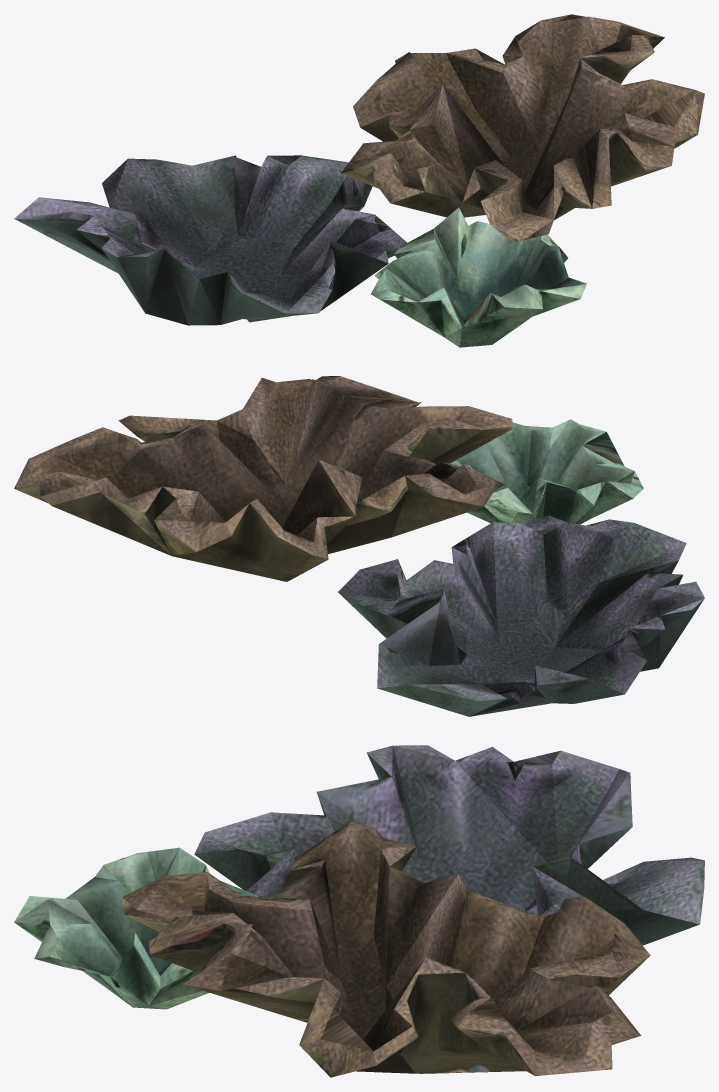
3 views of the same model, one above another, from view 1: azimuth 30°, elevation 25°; view 2: azimuth 150°, elevation 25°; view 3: azimuth 270°, elevation 25° (orthographic). The views are drawn at different scales.
Visible parts, largest first — view 1: sc06; view 2: sc06; view 3: sc06.
Boxes of the visible parts, x1,y1,x2,y2 form: sc06: (14,14,704,347); sc06: (14,376,704,716); sc06: (14,745,704,1077).
Size of the model in its own units: 1194 by 345 by 927.
